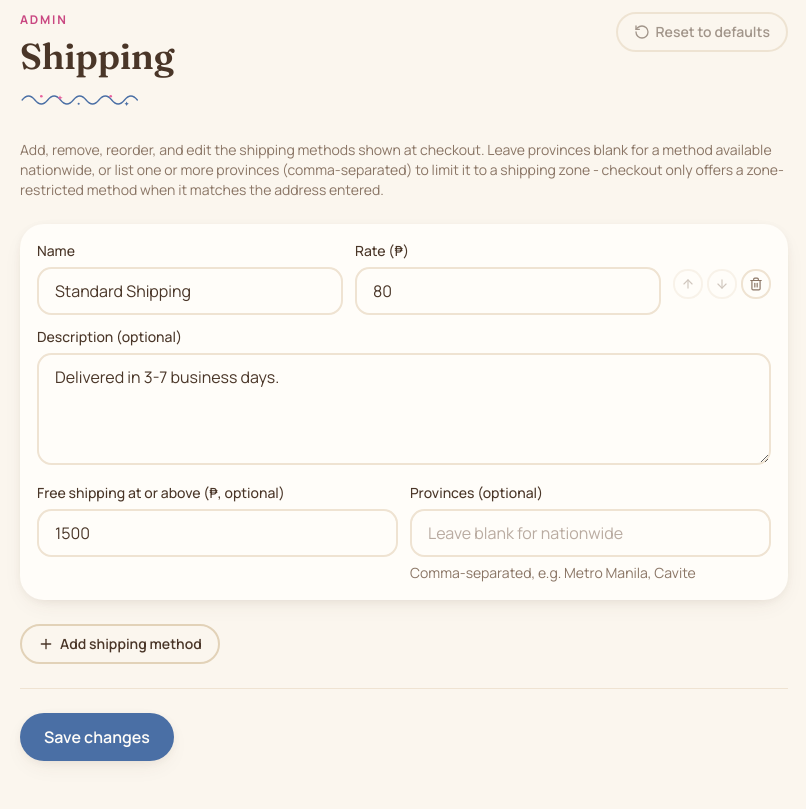
Test case: ShippingEditor › blocks saving with an empty name
Clear the field labelled "Name" at (190, 291), box [37,267,343,315]
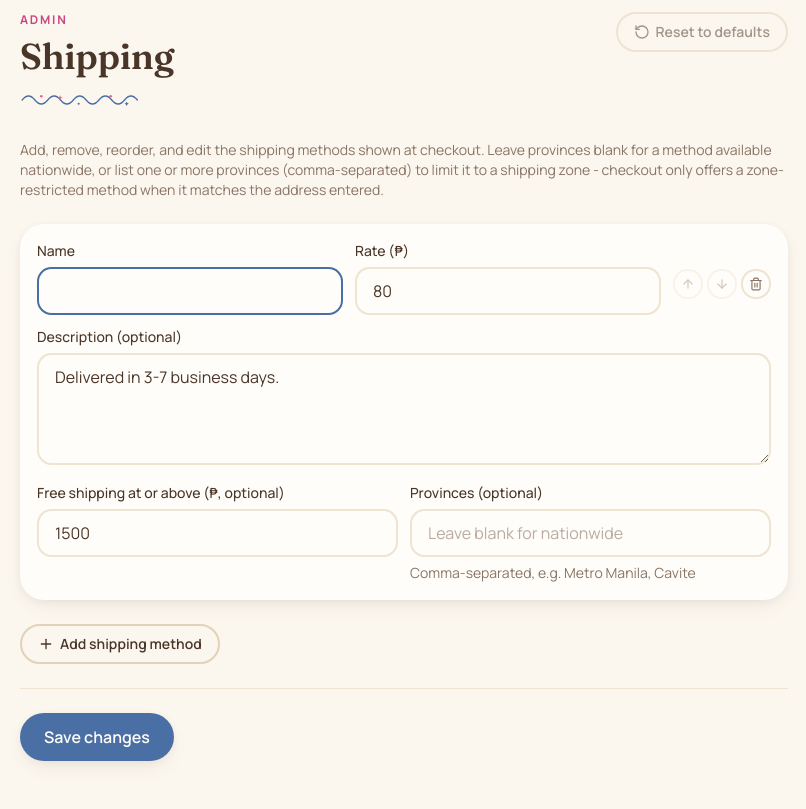
Click the button "Save changes".
click(97, 737)  # box [20,713,174,761]
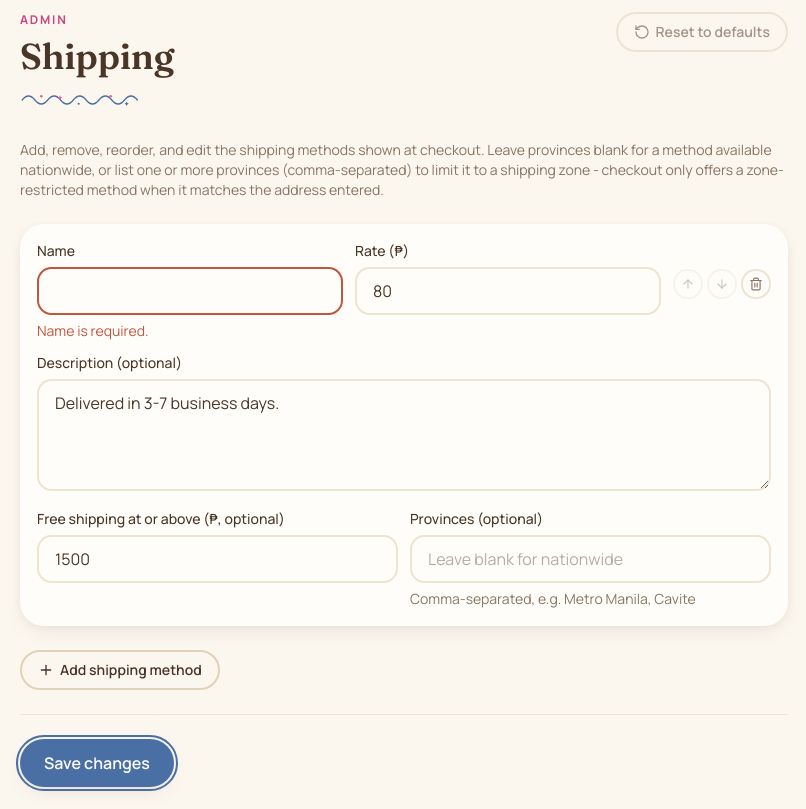
Expected: the text "Name is required." is shown, [37,321,148,340]
